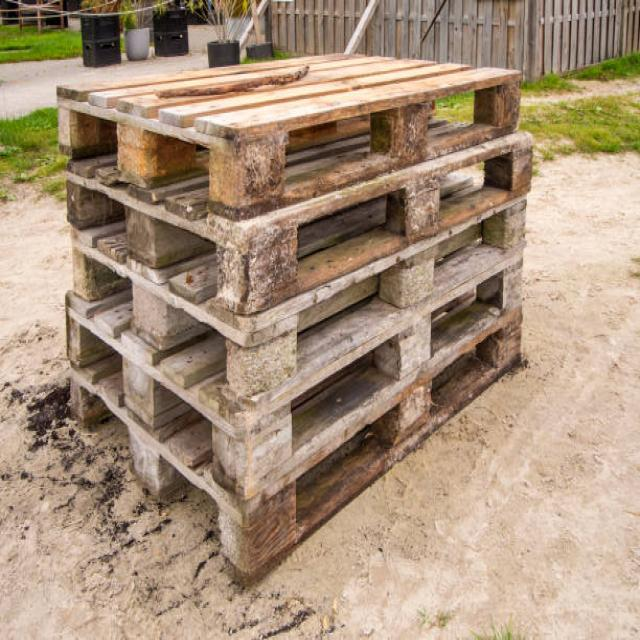Wooden-Pallets: (60, 313, 528, 584), (52, 257, 528, 496), (58, 195, 530, 404), (48, 130, 539, 321), (50, 67, 524, 215)
